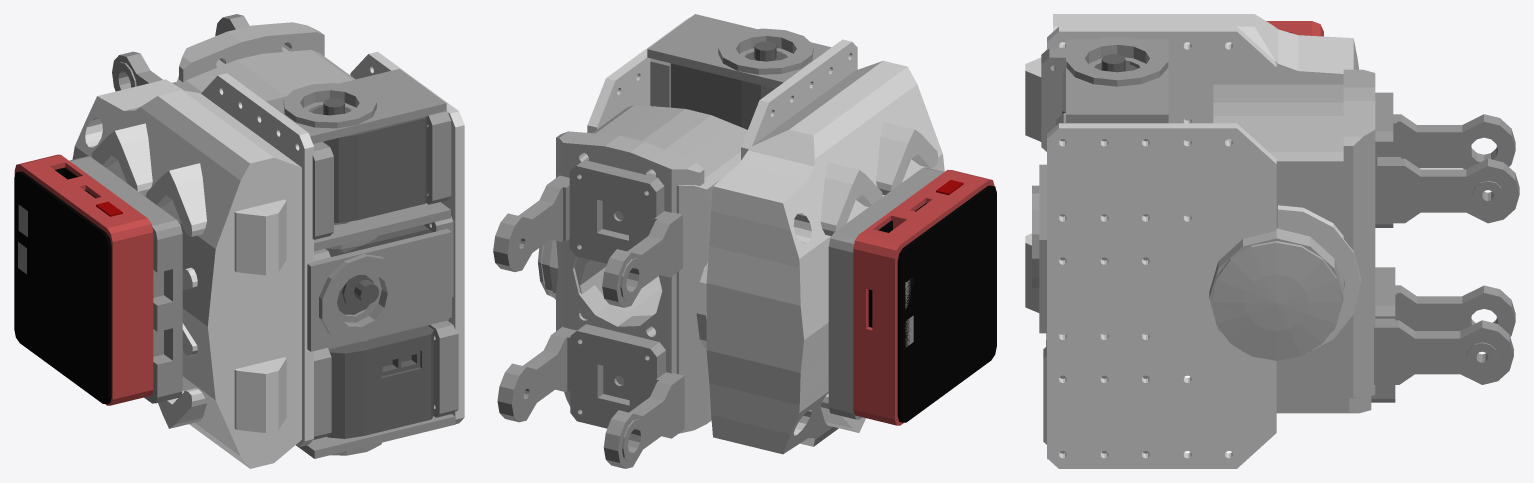
File: torso-link-l2l5.glb
3 views of the same model, side by side, from view 1: azimuth 30°, elevation 25°; view 2: azimuth 150°, elevation 25°; view 3: azimuth 270°, elevation 25° (orthographic). The views are drawn at different scales.
Bounding box in the file's own units: 0.111 × 0.1 × 0.125.
